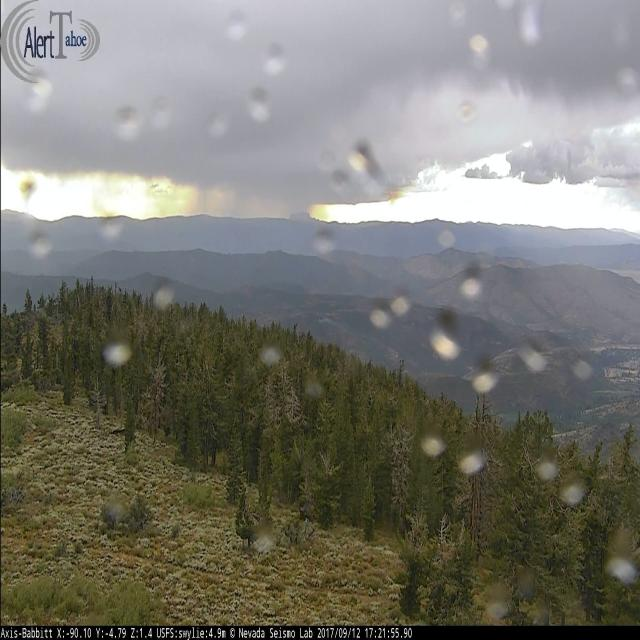smoke: (318, 317, 331, 323)
